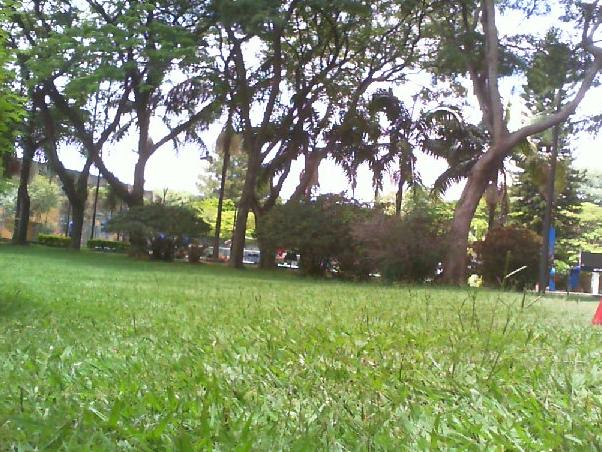0 cone: (591, 269, 602, 329)
